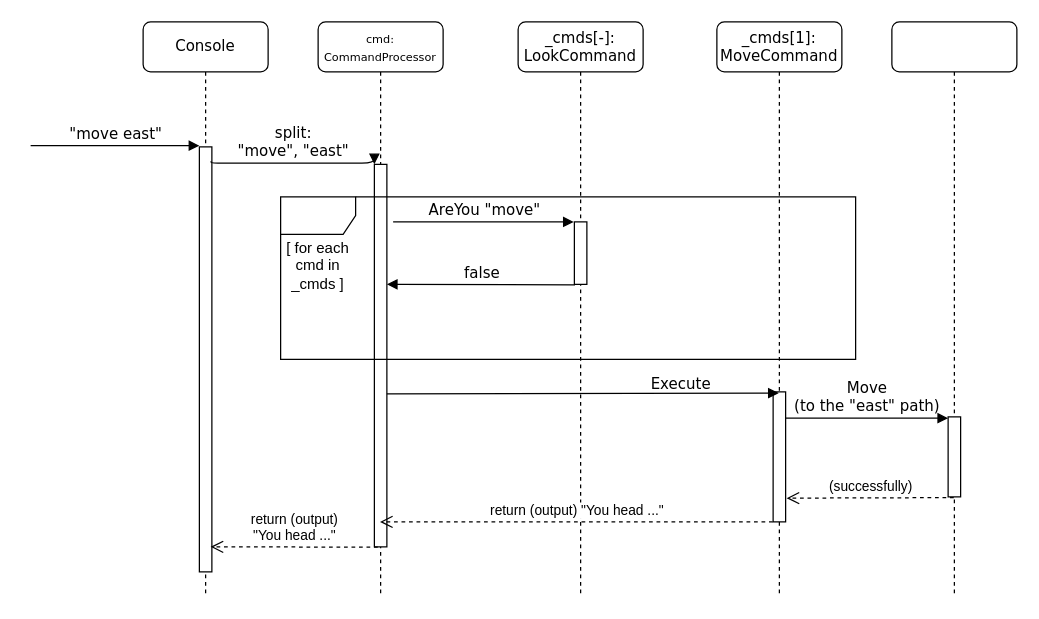
Some shapes in this 1039 by 619 pixel diagram are drawn without their labels. The box of each missing label's shape, as (x1, y1, x2, y2) in pixels:
Loop: (279, 196, 856, 359)
player: Player: (891, 21, 1017, 597)
